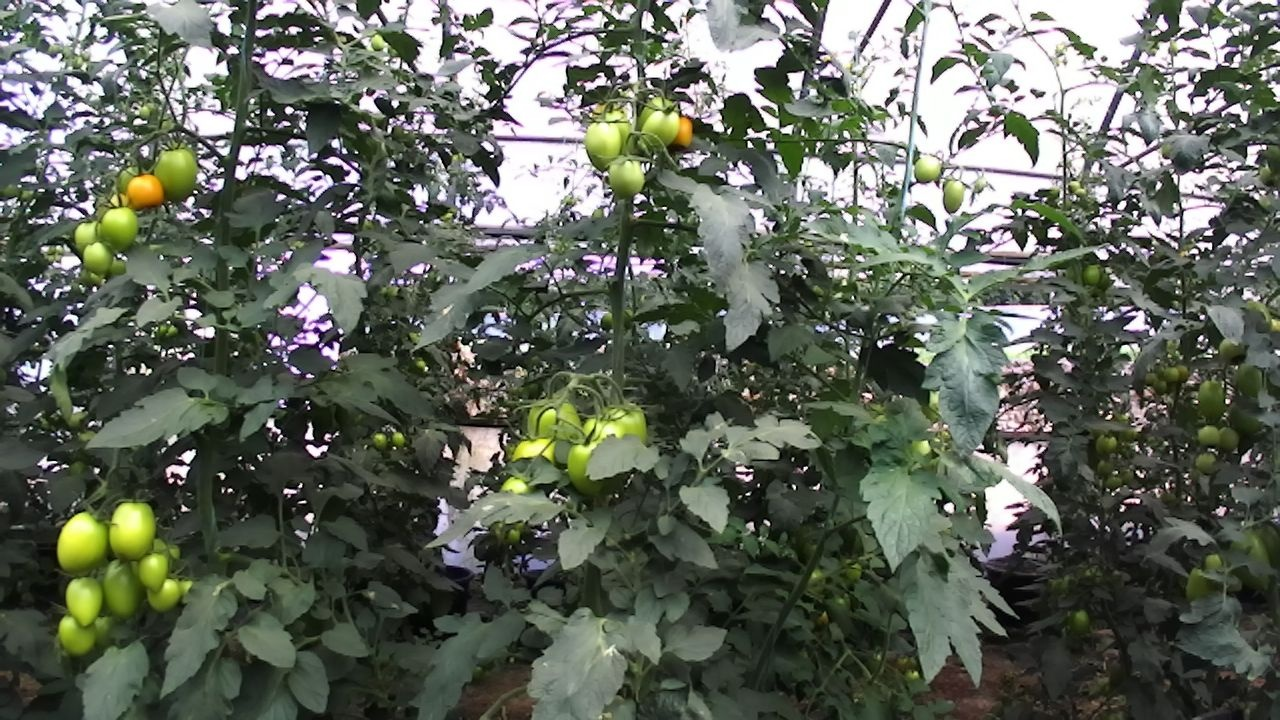tomato: (517, 388, 594, 462), (51, 500, 117, 580), (597, 390, 661, 471), (102, 492, 164, 565), (95, 552, 154, 622), (558, 434, 618, 501), (147, 139, 202, 209), (578, 114, 633, 179), (599, 149, 657, 209), (58, 570, 110, 632), (94, 200, 146, 259), (635, 100, 687, 158), (1177, 559, 1229, 614), (51, 610, 105, 662), (1220, 391, 1271, 443), (121, 167, 171, 218), (1191, 375, 1234, 426), (140, 571, 186, 617), (133, 545, 173, 597), (934, 169, 973, 220), (1229, 357, 1272, 403), (907, 148, 950, 189), (69, 214, 109, 257), (78, 236, 118, 278), (1214, 331, 1257, 369), (666, 109, 702, 152), (1062, 604, 1097, 641), (1209, 421, 1245, 454), (1090, 426, 1124, 459), (1194, 420, 1226, 450), (1192, 449, 1224, 478), (364, 426, 394, 455), (1079, 261, 1107, 289), (385, 424, 412, 453), (1160, 364, 1184, 385)
